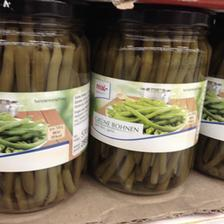Bohnen: (94, 0, 214, 204), (0, 1, 88, 215)
